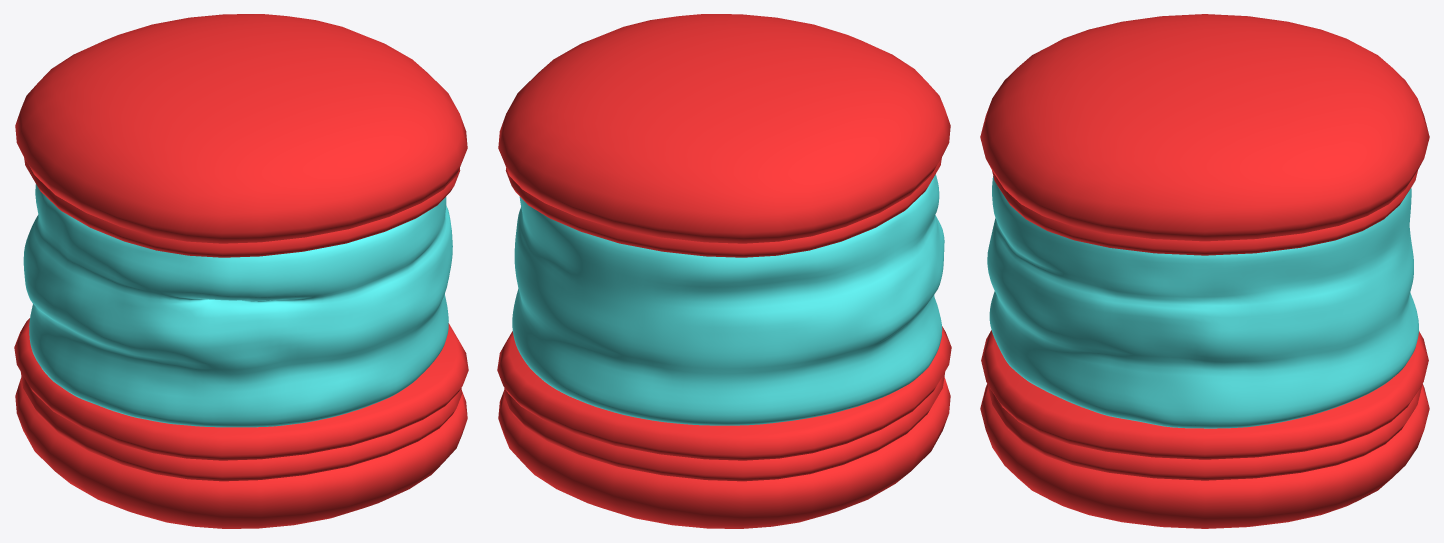
File: Macaroon.fbx
The picture shows the model from 3 angles, left to right: view 1: azimuth 30°, elevation 25°; view 2: azimuth 150°, elevation 25°; view 3: azimuth 270°, elevation 25°; orthographic projection.
Visible parts, largest first — view 1: Box017, Group41384; view 2: Box017, Group41384; view 3: Box017, Group41384.
Boxes of the visible parts, x1,y1,x2,y2 form: Box017: (14, 14, 468, 528); Group41384: (23, 184, 452, 427); Box017: (497, 14, 951, 528); Group41384: (512, 174, 944, 425); Box017: (980, 14, 1429, 528); Group41384: (987, 176, 1418, 428).
Bounding box in the file's own units: 46.99 × 46.98 × 47.2.
